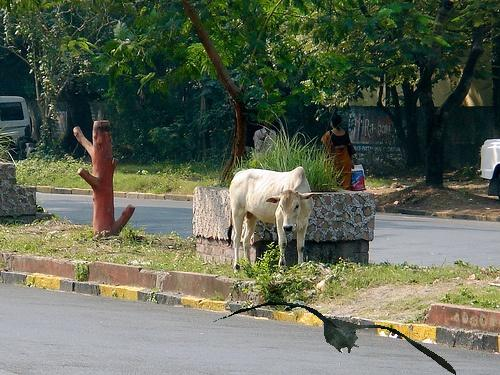tampered: (214, 303, 456, 375)
